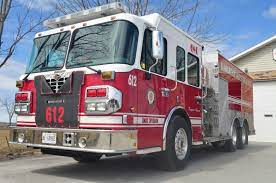special: (11, 1, 255, 167)
